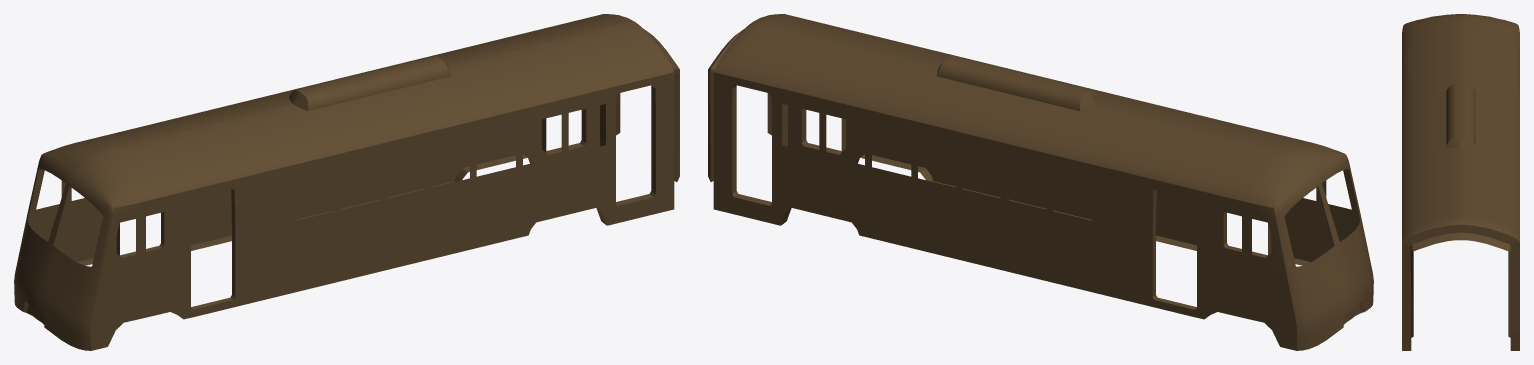
File: train_test.fbx
The picture shows the model from 3 angles, left to right: view 1: azimuth 30°, elevation 25°; view 2: azimuth 150°, elevation 25°; view 3: azimuth 270°, elevation 25°; orthographic projection. The views are drawn at different scales.
Visible parts, largest first — view 1: polySurface33; view 2: polySurface33; view 3: polySurface33.
Boxes of the visible parts, <box> form: polySurface33: <box>14,14,679,350</box>; polySurface33: <box>708,14,1373,350</box>; polySurface33: <box>1402,14,1519,350</box>.
Bounding box in the file's own units: 325 × 86.81 × 67.78.
